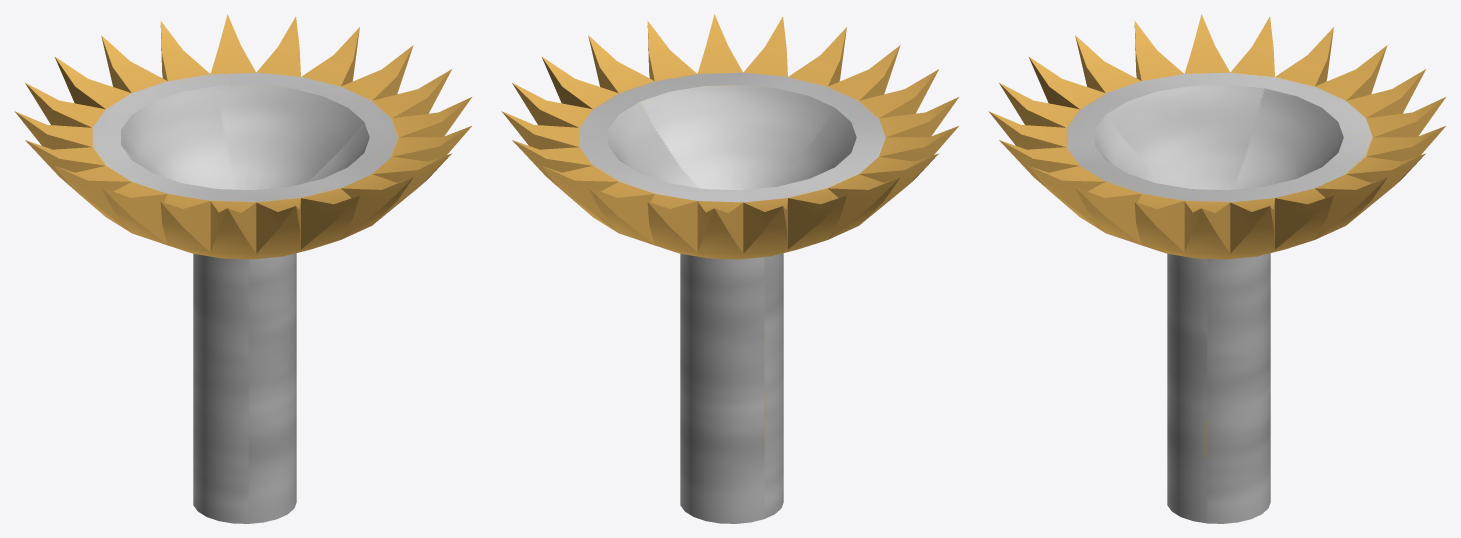
The model's file is altar.fbx.
3 renders of one model, left to right at view 1: azimuth 30°, elevation 25°; view 2: azimuth 150°, elevation 25°; view 3: azimuth 270°, elevation 25°, orthographic.
Visible parts, largest first — view 1: Cylinder.005; view 2: Cylinder.005; view 3: Cylinder.005.
Part boxes in pixels (x1=…): Cylinder.005: x1=14, y1=14, x2=471, y2=523; Cylinder.005: x1=501, y1=14, x2=958, y2=523; Cylinder.005: x1=988, y1=14, x2=1445, y2=523.
Size of the model in its own units: 444 by 417 by 443.
Materials: 2 (1 with a texture image).
